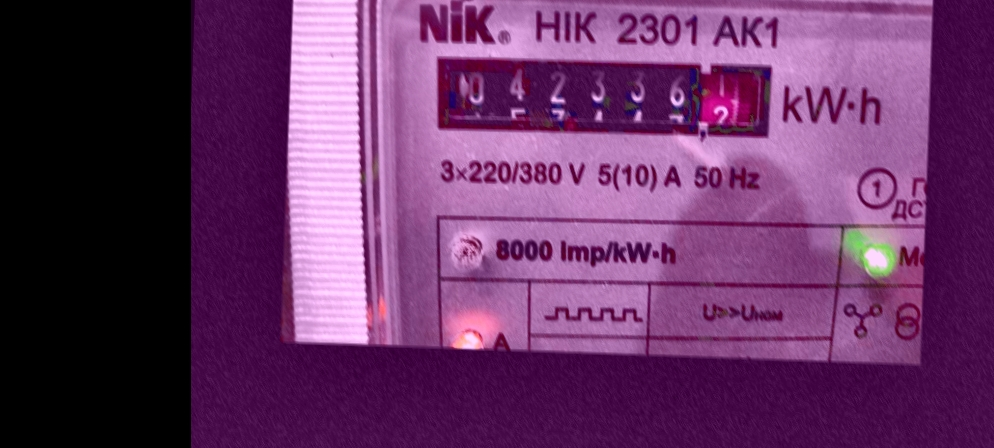0: (464, 69, 485, 105)
1: (713, 69, 727, 98)
2: (545, 68, 566, 105), (709, 103, 728, 125)
3: (624, 67, 646, 104), (586, 66, 607, 104)
4: (505, 64, 526, 101)
6: (663, 71, 686, 107)
screen: (425, 43, 780, 148)
